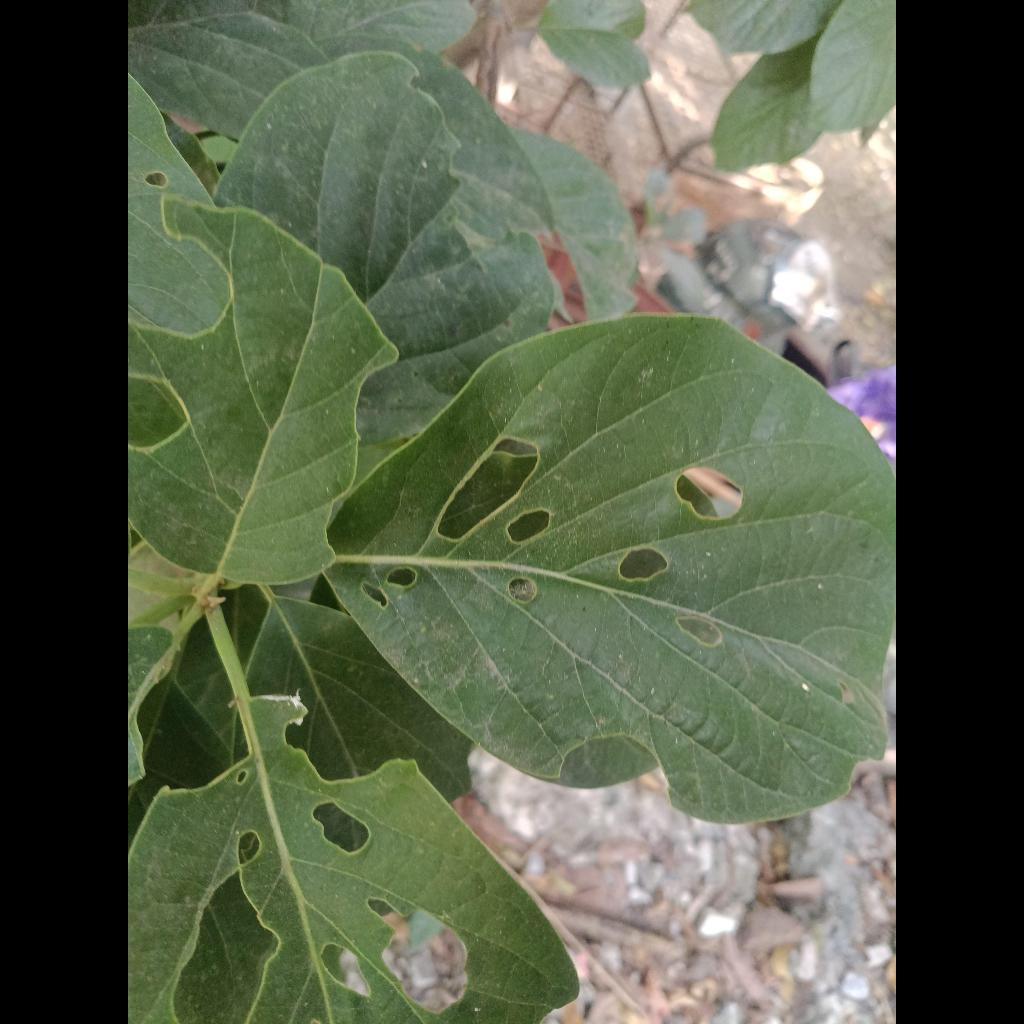plaga: (328, 315, 896, 822), (128, 197, 396, 584)
